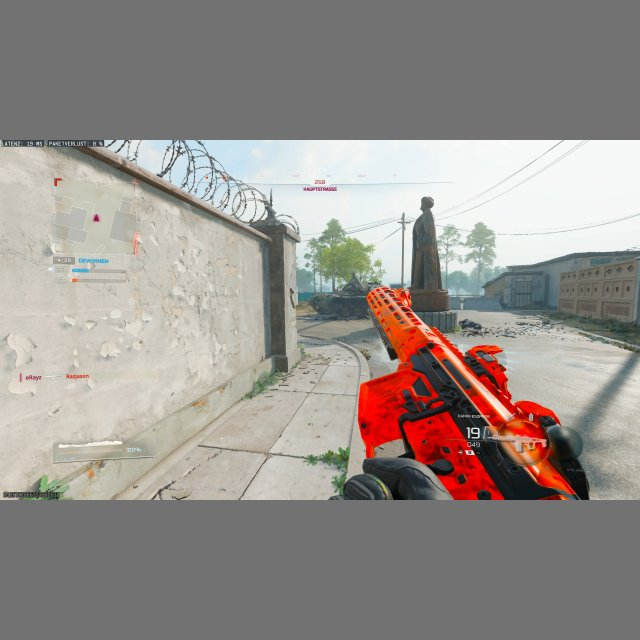player: (401, 289, 411, 307), (290, 287, 296, 308)
